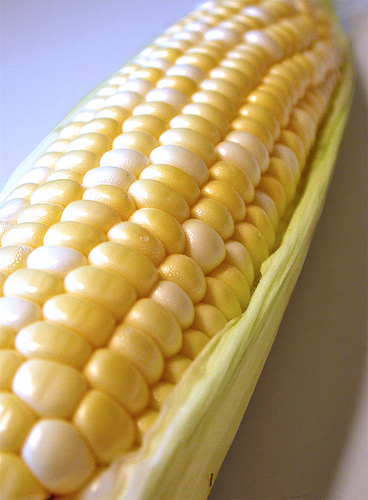corn: (0, 0, 351, 498)
